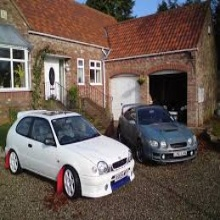no damage: (5, 108, 136, 201), (116, 104, 200, 163)
